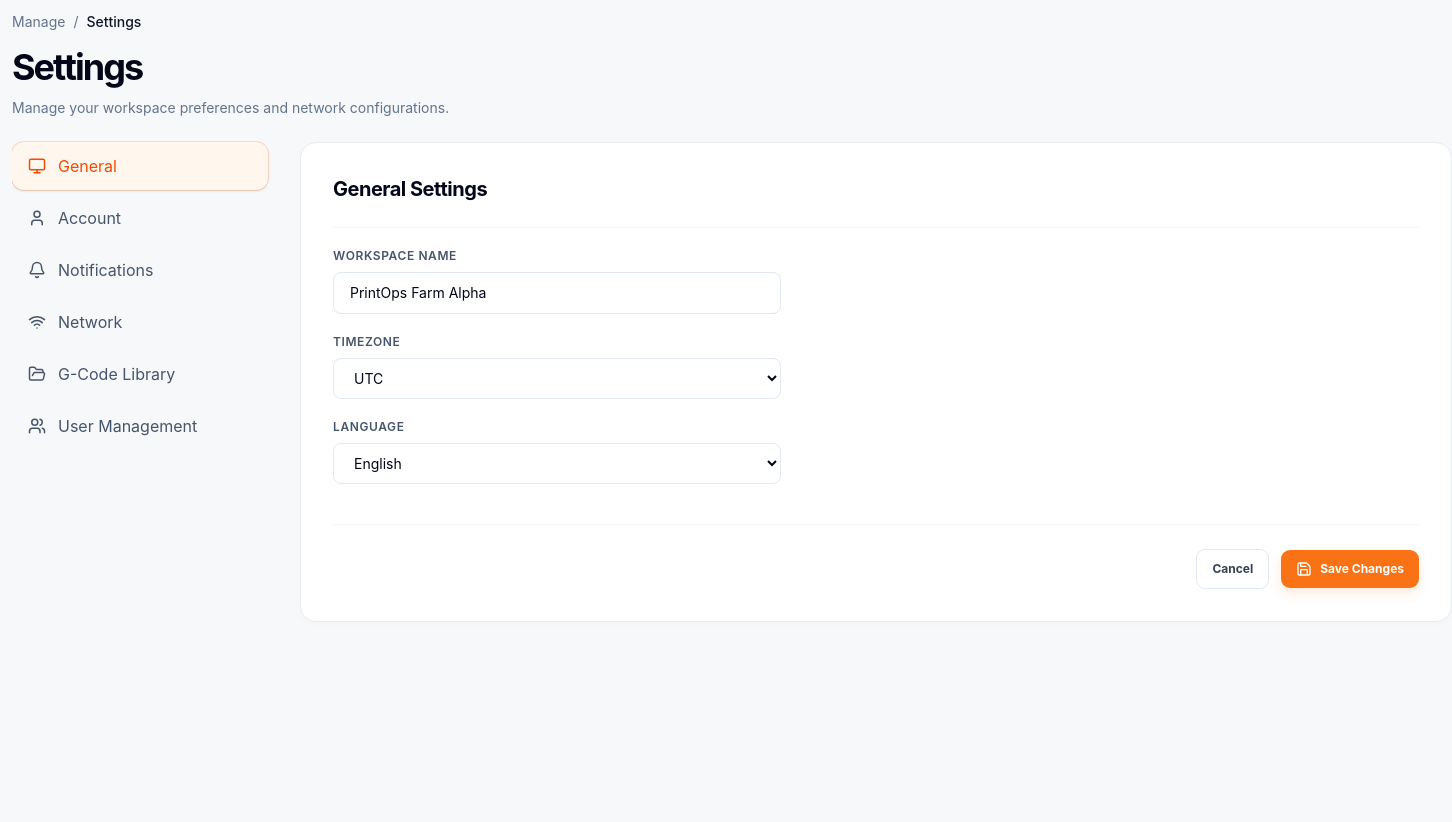
SettingsWorkspace › switches to Network settings when Network tab is clicked
The width and height of the screenshot is (1452, 822).
Click the button "Network" at (140,322), box top-left (12, 298), bottom-right (268, 346)
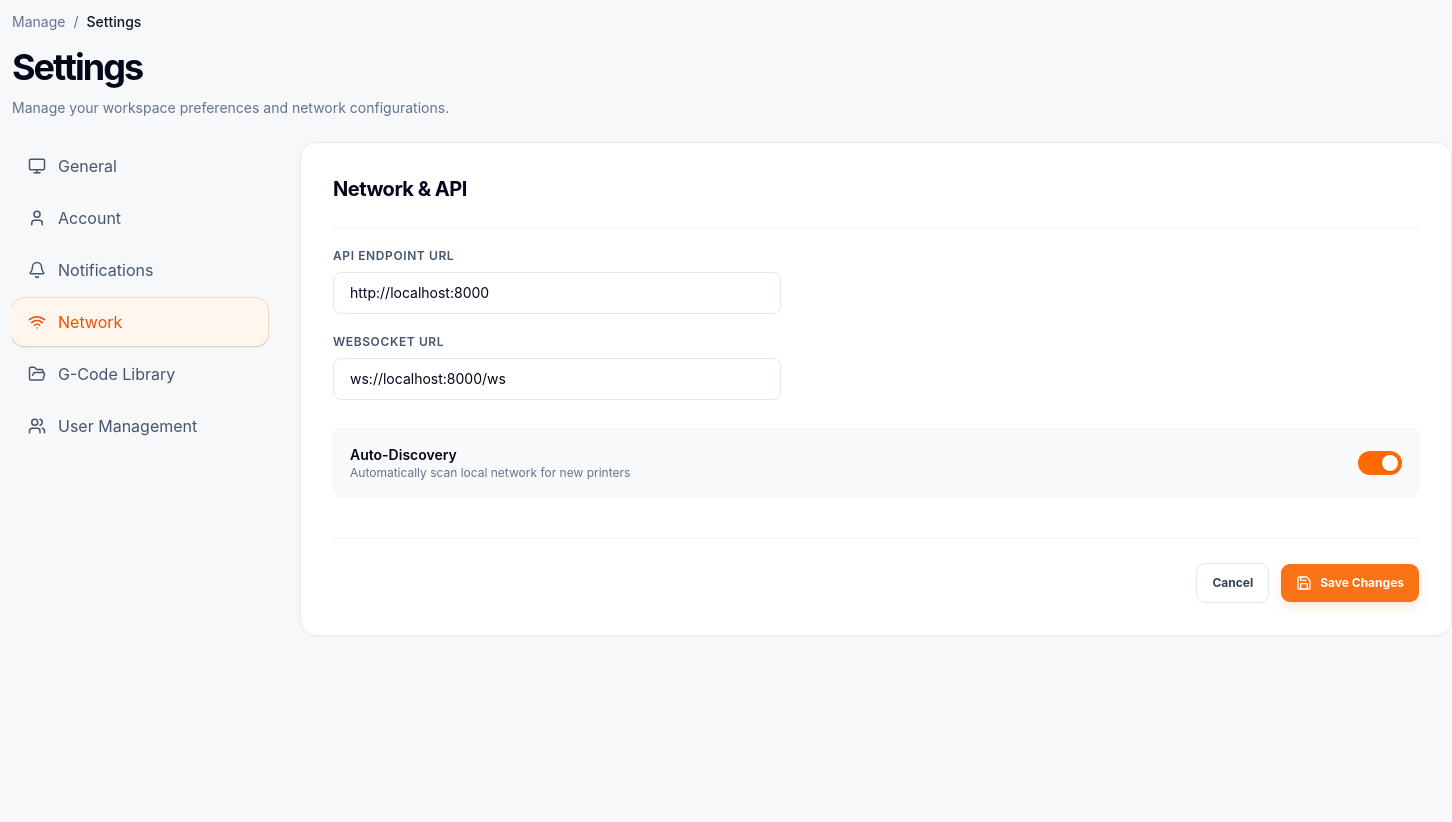
expect the heading "Network & API" is shown: met, box top-left (333, 177), bottom-right (467, 201)
expect the text "API Endpoint URL" is shown: met, box top-left (333, 248), bottom-right (454, 263)
